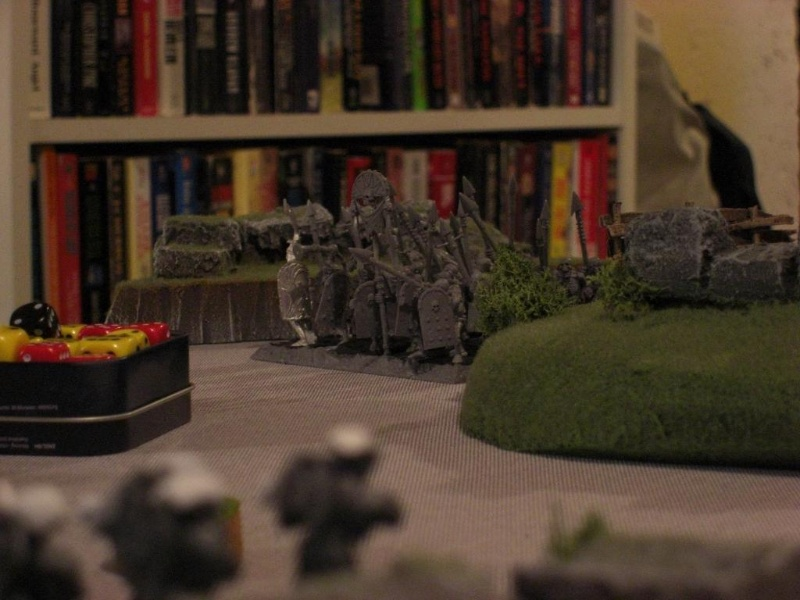book: (20, 1, 189, 125), (31, 149, 112, 323), (542, 135, 610, 268)
